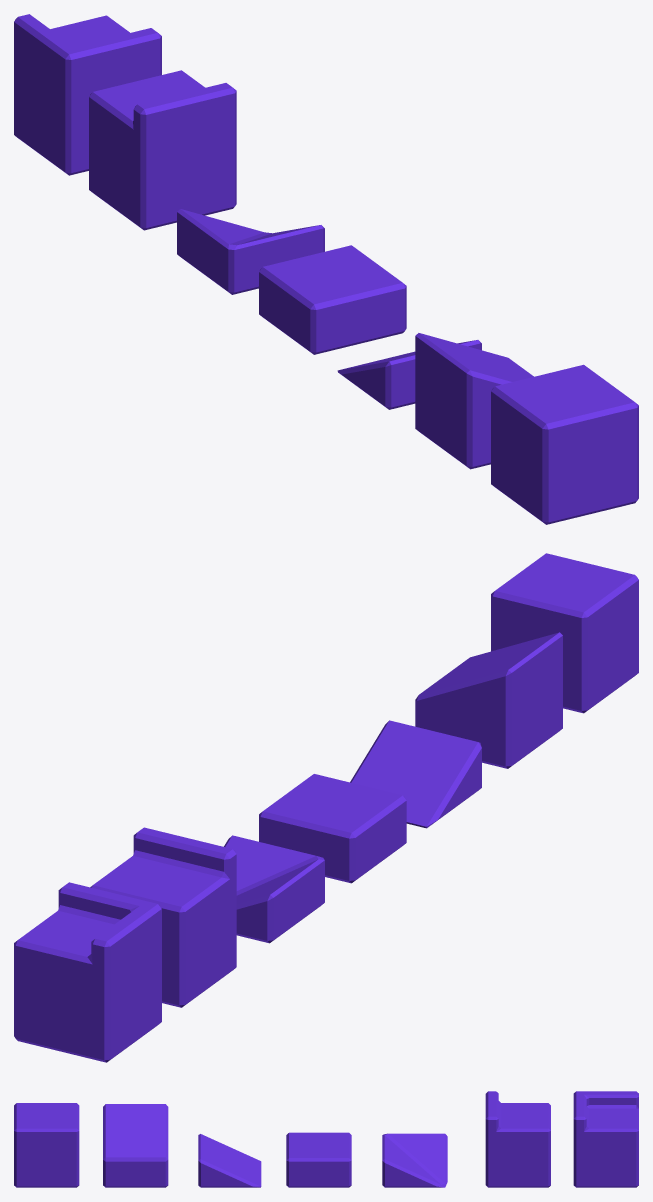
The model's file is Godot.glb.
3 views of the same model, one above another, from view 1: azimuth 30°, elevation 25°; view 2: azimuth 150°, elevation 25°; view 3: azimuth 270°, elevation 25° (orthographic). The views are drawn at different scales.
Visible parts, largest first — view 1: BlockWall, Block, BlockWallCorner, BlockShort, RampTop, RampLowerCorner, RampBottom; view 2: BlockWallCorner, Block, BlockWall, RampTop, BlockShort, RampBottom, RampLowerCorner; view 3: BlockWallCorner, BlockWall, Block, RampTop, BlockShort, RampLowerCorner, RampBottom.
Boxes of the visible parts, x1=… form: BlockWall: x1=89, y1=70, x2=236, y2=230; Block: x1=491, y1=364, x2=638, y2=524; BlockWallCorner: x1=14, y1=14, x2=161, y2=175; BlockShort: x1=259, y1=245, x2=406, y2=354; RampTop: x1=415, y1=333, x2=533, y2=469; RampLowerCorner: x1=177, y1=209, x2=324, y2=294; RampBottom: x1=337, y1=340, x2=481, y2=409; BlockWallCorner: x1=14, y1=882, x2=161, y2=1062; Block: x1=491, y1=553, x2=638, y2=713; BlockWall: x1=90, y1=827, x2=236, y2=1007; RampTop: x1=415, y1=632, x2=562, y2=768; BlockShort: x1=259, y1=774, x2=406, y2=883; RampBottom: x1=350, y1=720, x2=481, y2=828; RampLowerCorner: x1=224, y1=835, x2=324, y2=943; BlockWallCorner: x1=573, y1=1091, x2=638, y2=1187; BlockWall: x1=485, y1=1091, x2=550, y2=1187; Block: x1=14, y1=1103, x2=79, y2=1187; RampTop: x1=103, y1=1104, x2=168, y2=1187; BlockShort: x1=286, y1=1132, x2=351, y2=1187; RampLowerCorner: x1=382, y1=1133, x2=447, y2=1187; RampBottom: x1=198, y1=1134, x2=261, y2=1187.
Size of what is drawn, in the model's own units: 2 by 2.4 by 19.12.
